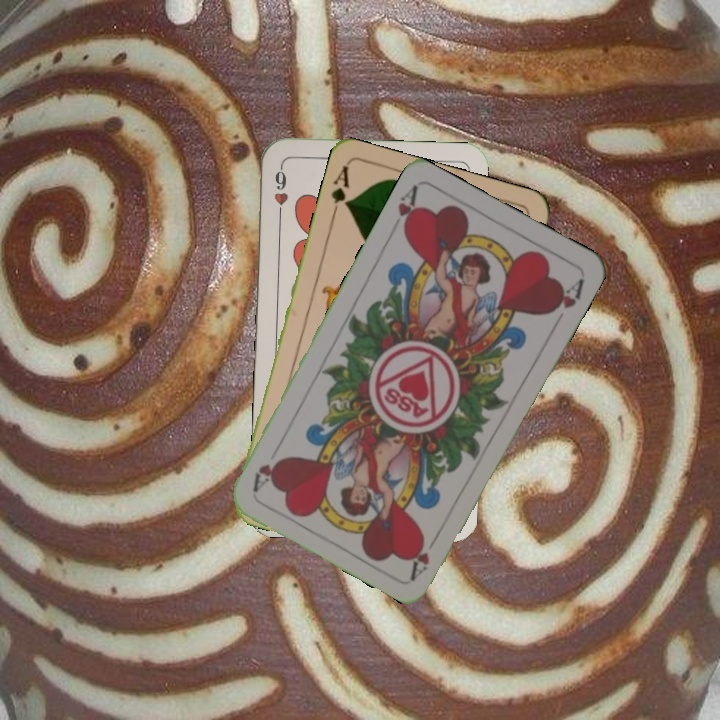GA: (327, 162, 352, 220)
H9: (270, 162, 291, 221)
HA: (406, 526, 444, 581), (386, 182, 422, 238)
